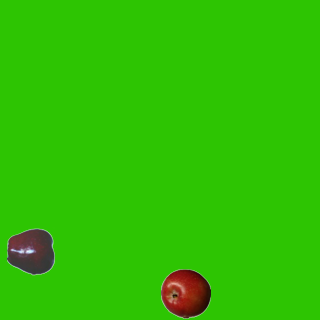Apple Braeburn: (160, 268, 210, 318)
Apple Red Delicious: (6, 226, 56, 276)
